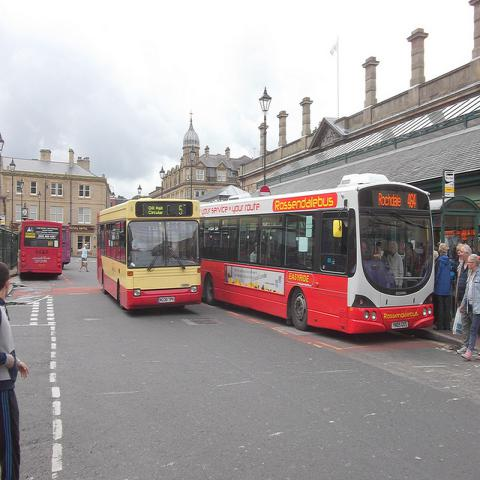bus: (200, 163, 437, 336), (97, 197, 201, 311), (17, 220, 63, 284), (62, 226, 70, 270)
